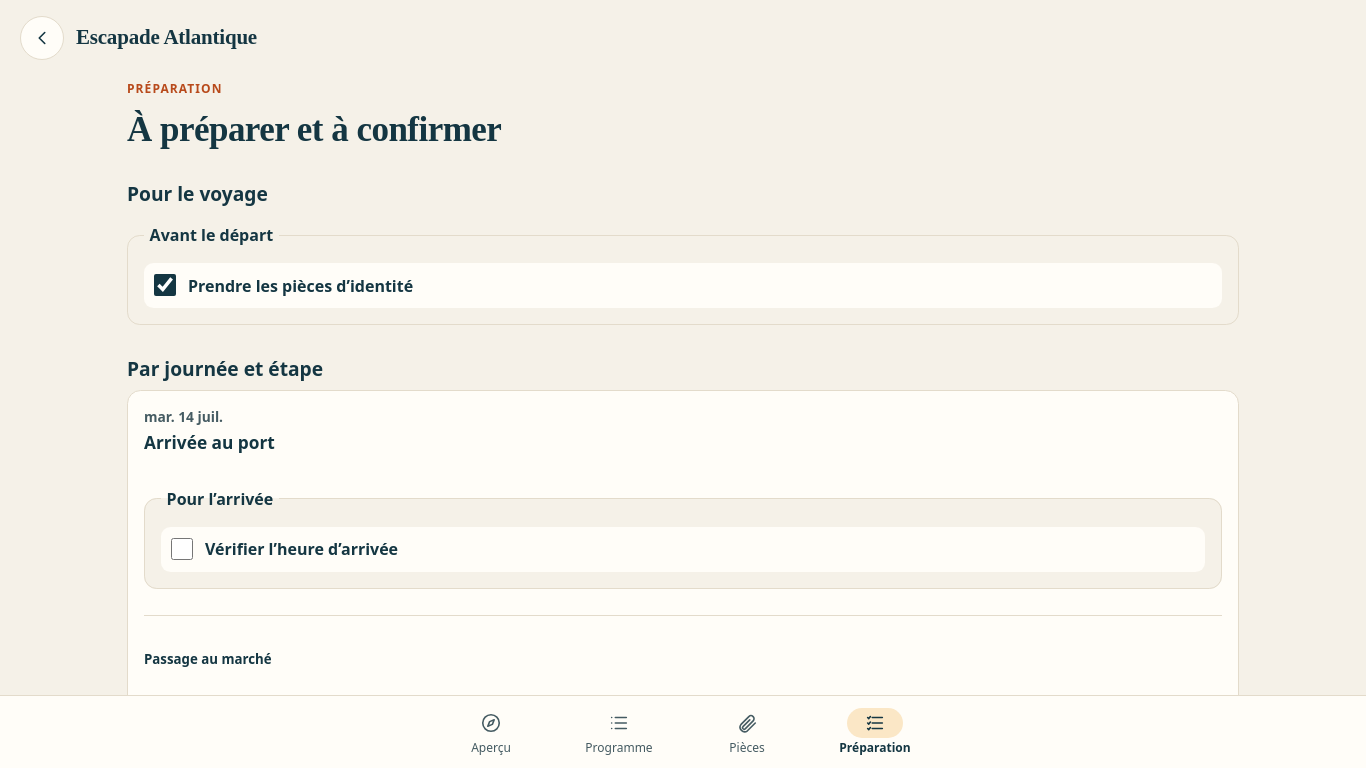
it: préparation et états personnels › charge un état coché et rétablit la valeur après un échec
The width and height of the screenshot is (1366, 768).
Click the checkbox labelled "Prendre les pièces d’identité". click: (165,285)
box: [154,274,176,296]
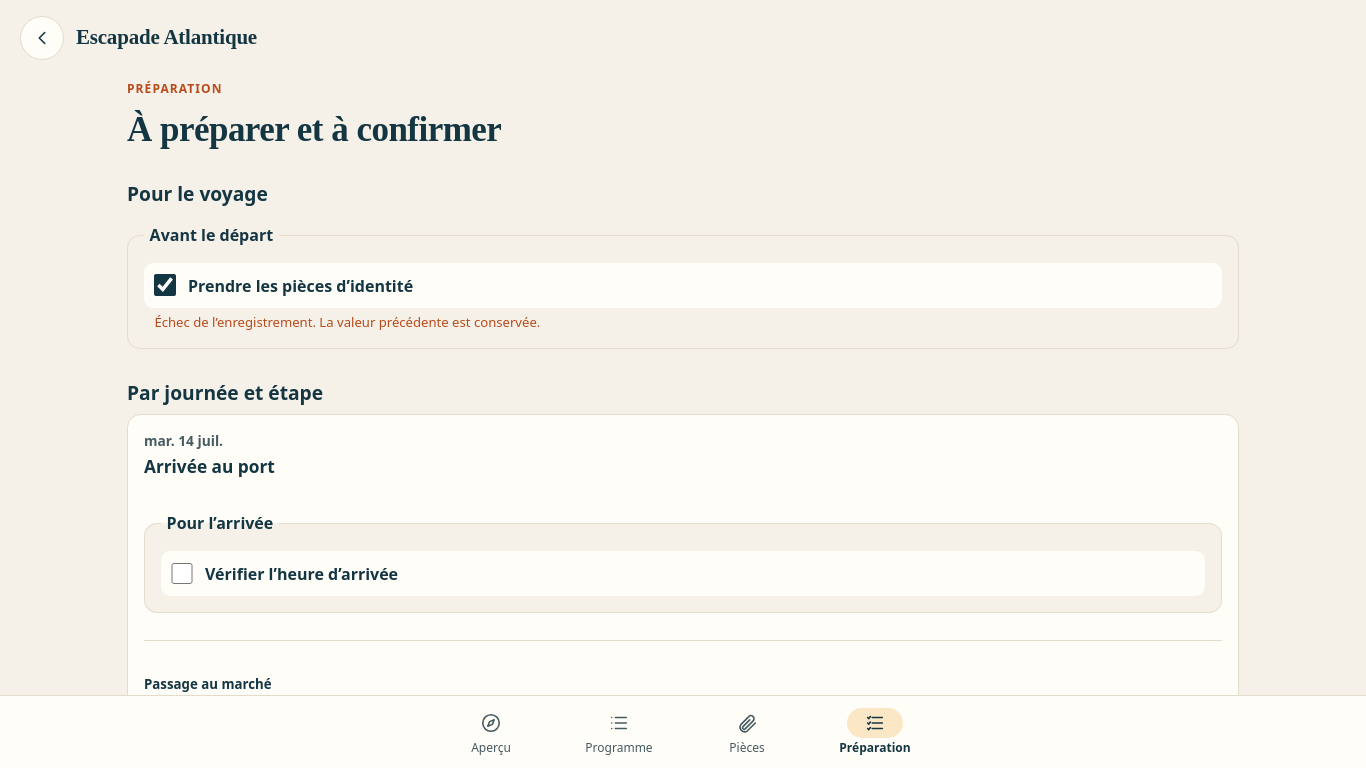
Expected: the message shows "Échec de l’enregistrement", [154,313,540,331]
